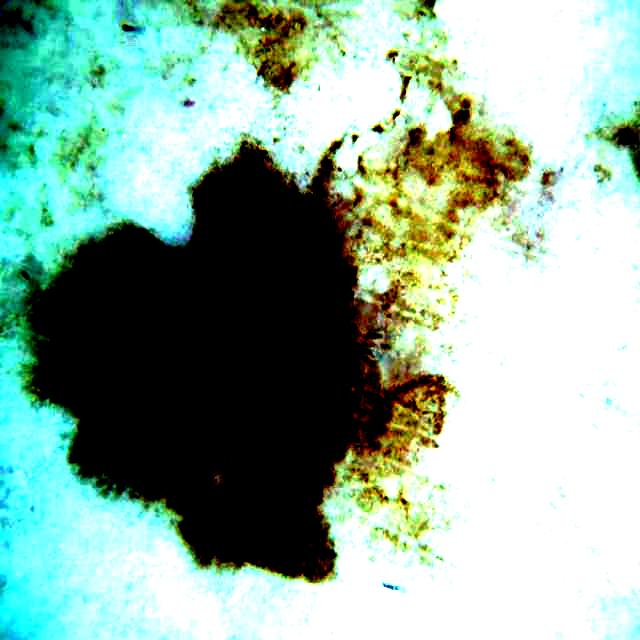MEL: (35, 148, 389, 581)
